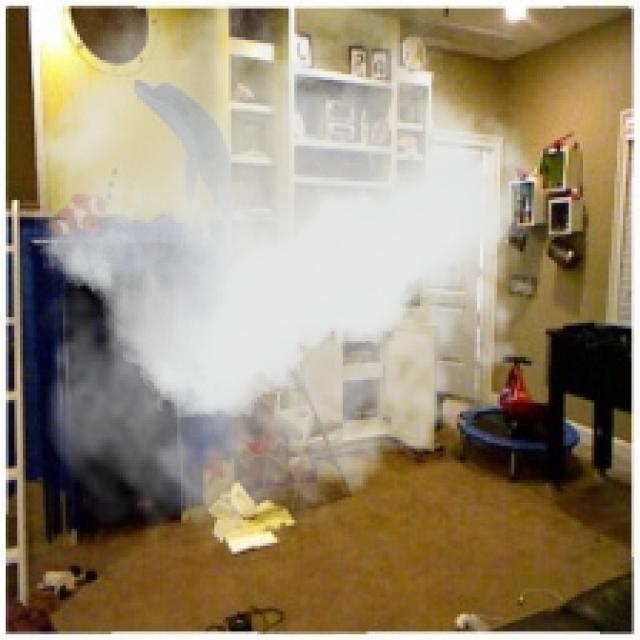Smoke: (34, 3, 552, 563)
